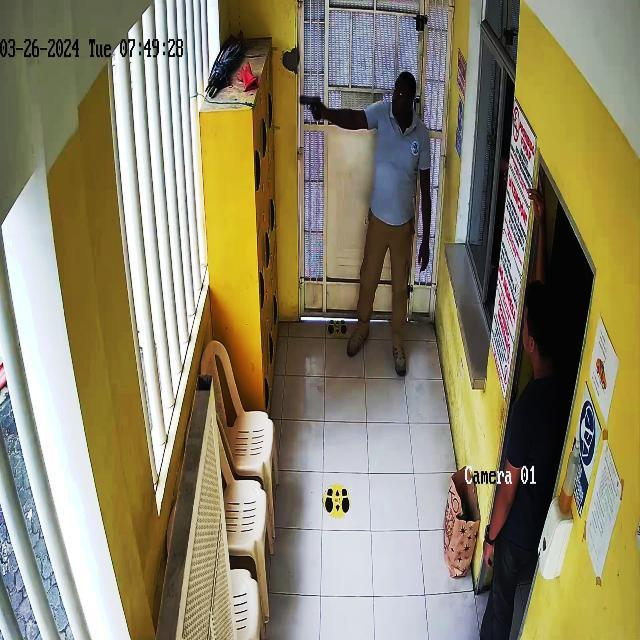Gun: (290, 85, 337, 133)
